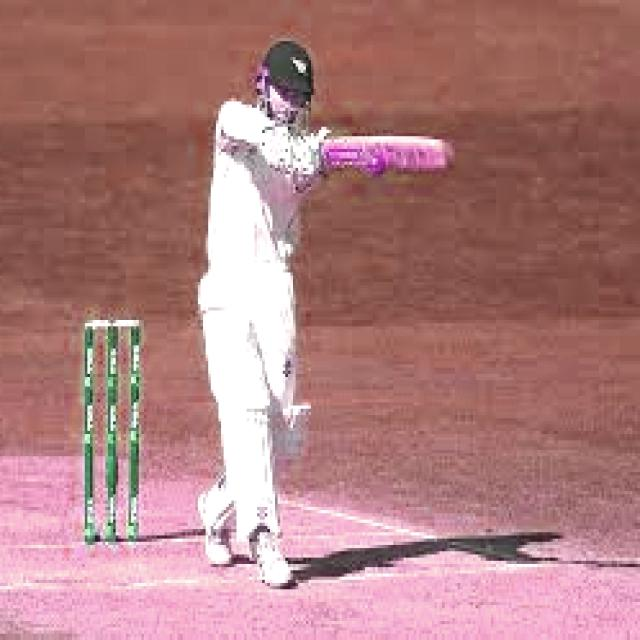toe: (415, 134, 460, 178)
